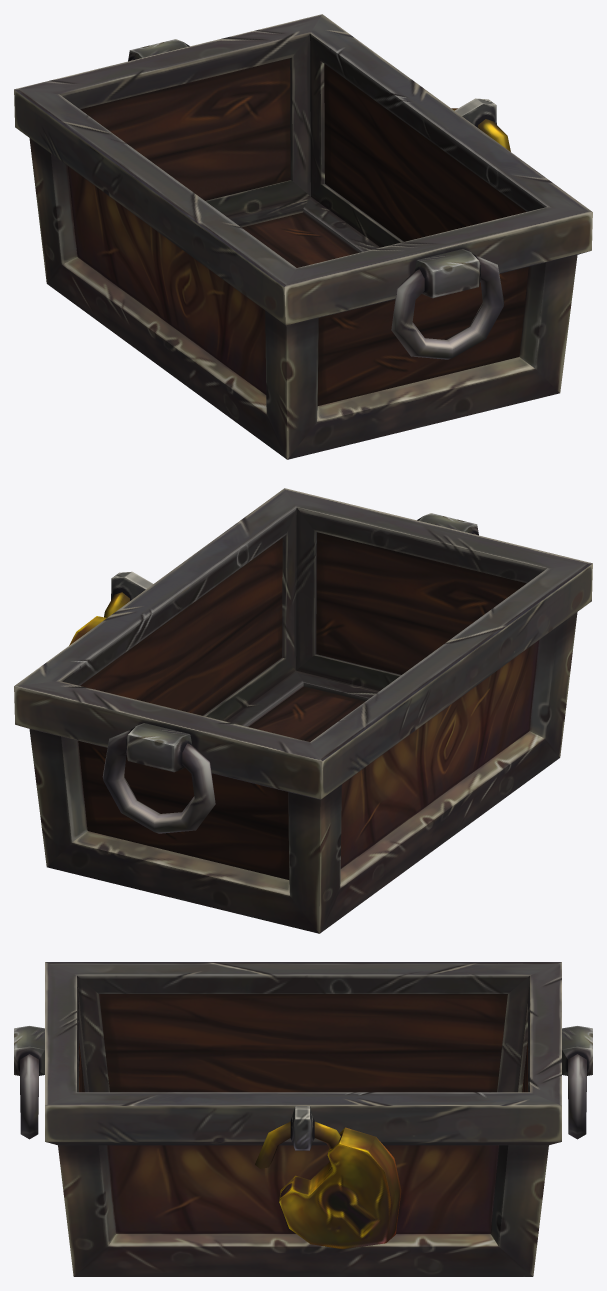
Rendered from Chest.fbx.
The picture shows the model from 3 angles, top to bottom: view 1: azimuth 30°, elevation 25°; view 2: azimuth 150°, elevation 25°; view 3: azimuth 270°, elevation 25°; orthographic projection. The views are drawn at different scales.
Parts seen in each view (by area): view 1: chest_open; view 2: chest_open; view 3: chest_open.
Boxes of the visible parts, box(x1,y1,x2,y2) form: chest_open: box(14, 14, 592, 459); chest_open: box(14, 488, 592, 933); chest_open: box(14, 962, 592, 1276).
Size of the model in its own units: 48.71 by 25.68 by 72.38.
